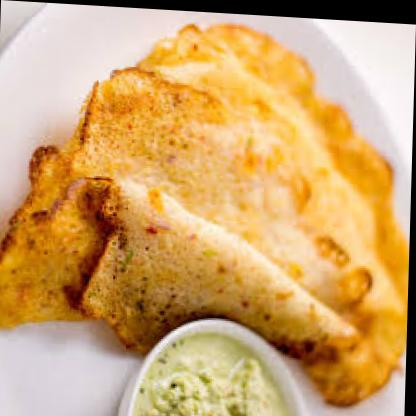dosa: (0, 11, 416, 407)
